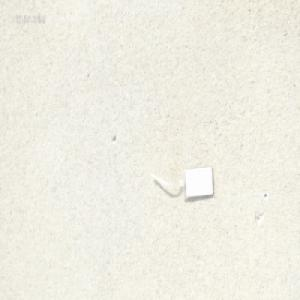LuggageTag: (149, 164, 213, 202)
